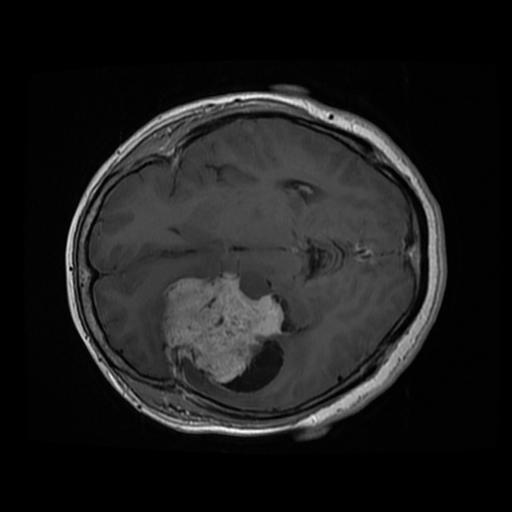meningioma: (163, 272, 281, 380)
